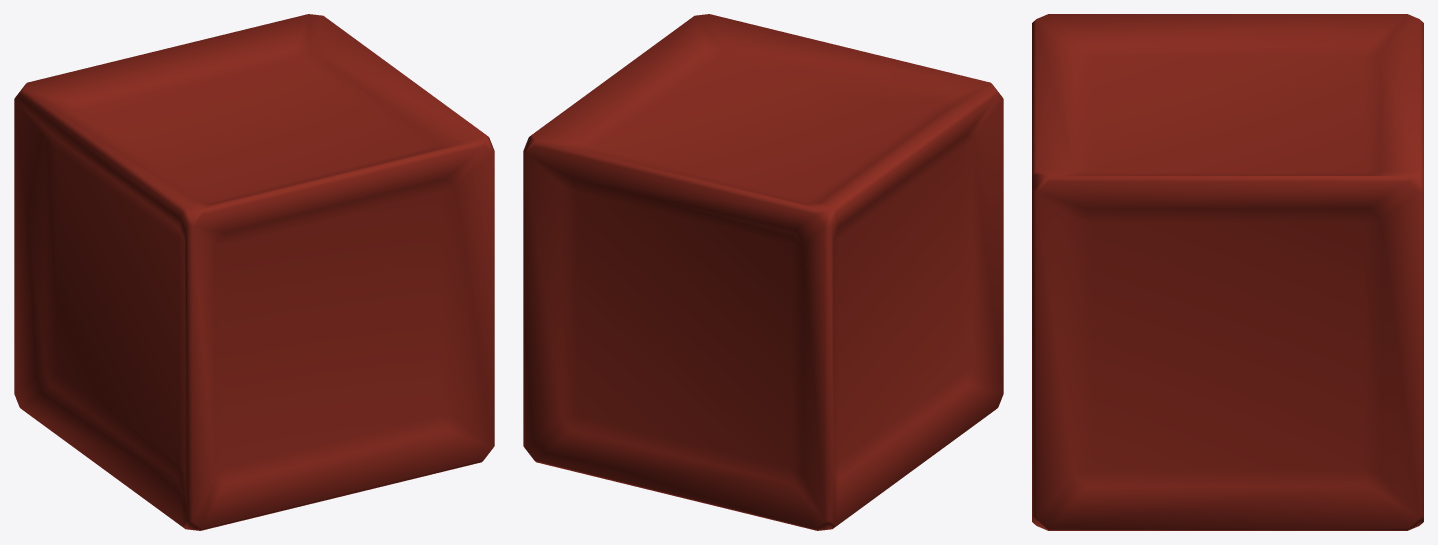
File: redBlock.fbx
The picture shows the model from 3 angles, left to right: view 1: azimuth 30°, elevation 25°; view 2: azimuth 150°, elevation 25°; view 3: azimuth 270°, elevation 25°; orthographic projection. The views are drawn at different scales.
Parts seen in each view (by area): view 1: FinishBlock; view 2: FinishBlock; view 3: FinishBlock.
Boxes of the visible parts, x1=… form: FinishBlock: x1=14, y1=14, x2=494, y2=530; FinishBlock: x1=523, y1=14, x2=1003, y2=530; FinishBlock: x1=1032, y1=14, x2=1423, y2=530.
Bounding box in the file's own units: 196 × 196 × 196.
